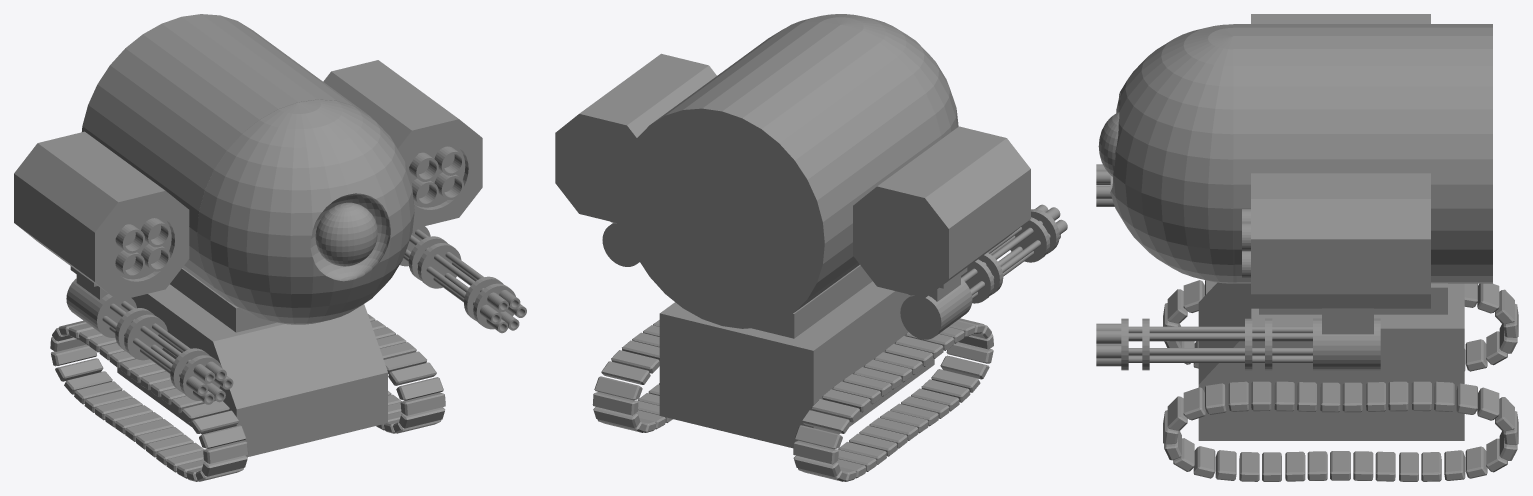
The model's file is Boss.obj.
The picture shows the model from 3 angles, left to right: view 1: azimuth 30°, elevation 25°; view 2: azimuth 150°, elevation 25°; view 3: azimuth 270°, elevation 25°; orthographic projection. The views are drawn at different scales.
Parts seen in each view (by area): view 1: Sphere.001; view 2: Sphere.001; view 3: Sphere.001.
Boxes of the visible parts, box(x1,y1,x2,y2) form: Sphere.001: box(14, 14, 526, 481); Sphere.001: box(555, 14, 1067, 481); Sphere.001: box(1096, 14, 1518, 481).
Size of the model in its own units: 19.19 by 16.27 by 16.27.
Materials: 1 (1 with a texture image).
